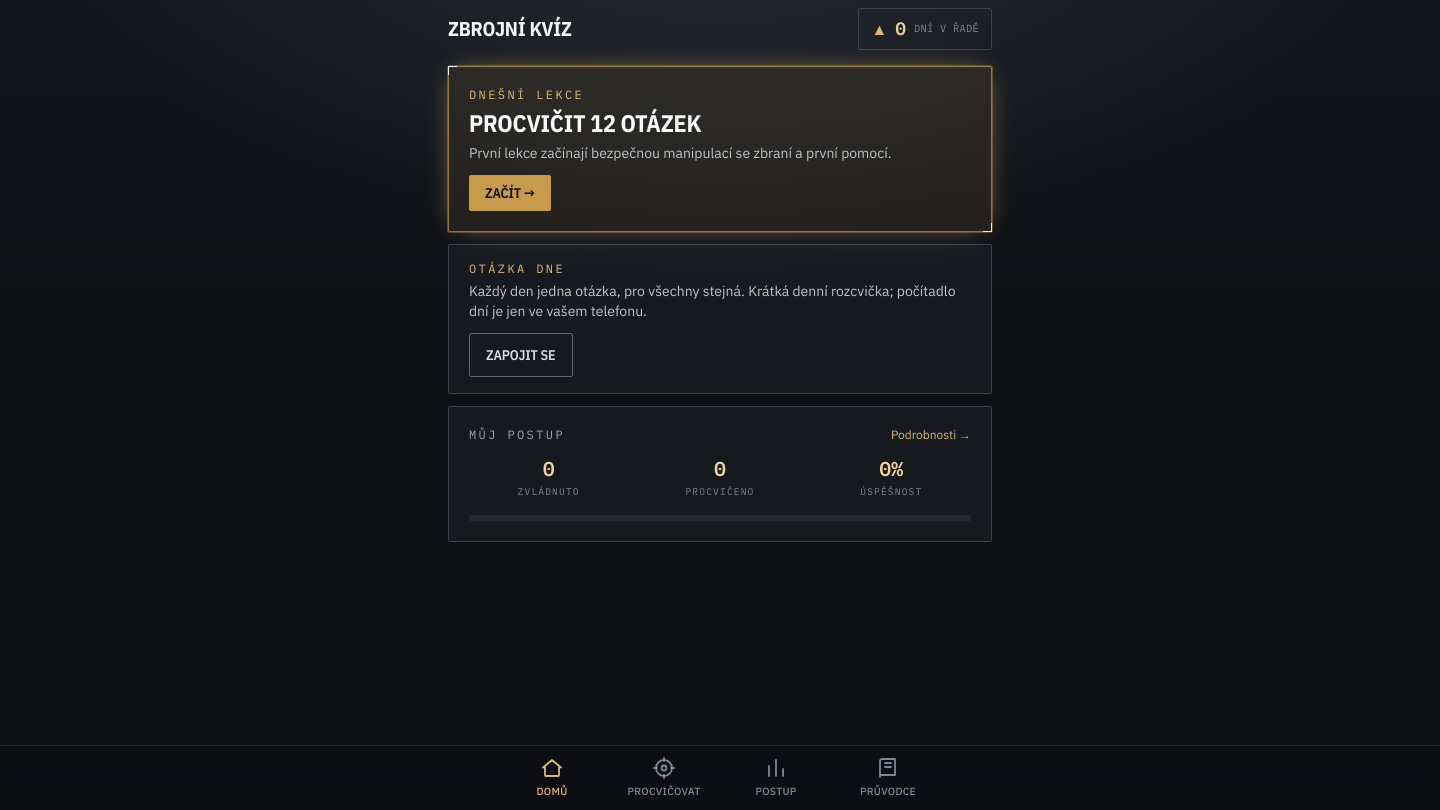
Test: reading aid in the app › is never offered in the mock exam, even when turned on
What coordinates should you click on to do the following:
click the button "Procvičovat"
I would click on:
 (664, 778)
Its box is top-left (608, 746), bottom-right (720, 809).
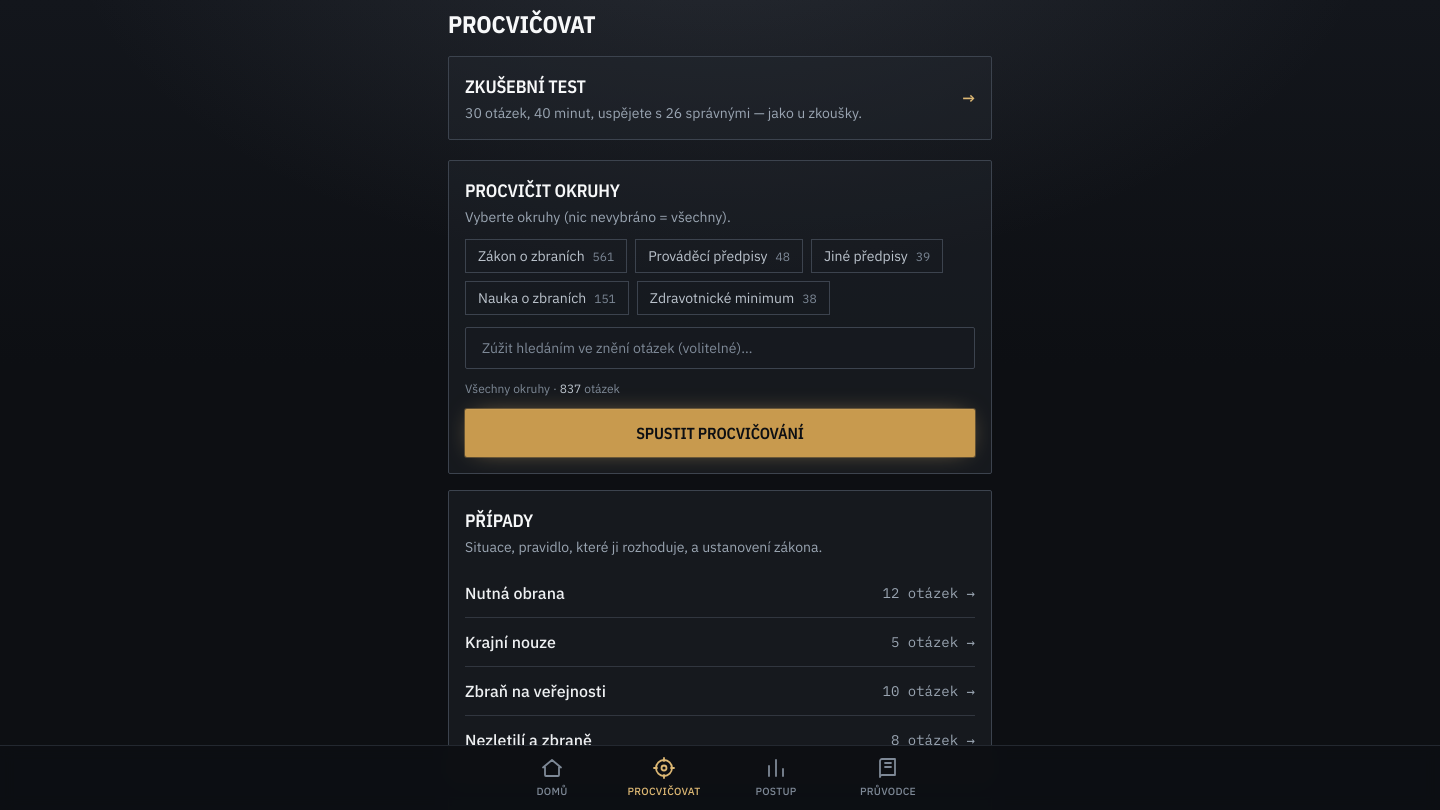
What coordinates should you click on to do the following:
click the button "Zkušební test"
I would click on:
 (525, 86)
Its box is top-left (448, 56), bottom-right (992, 140).
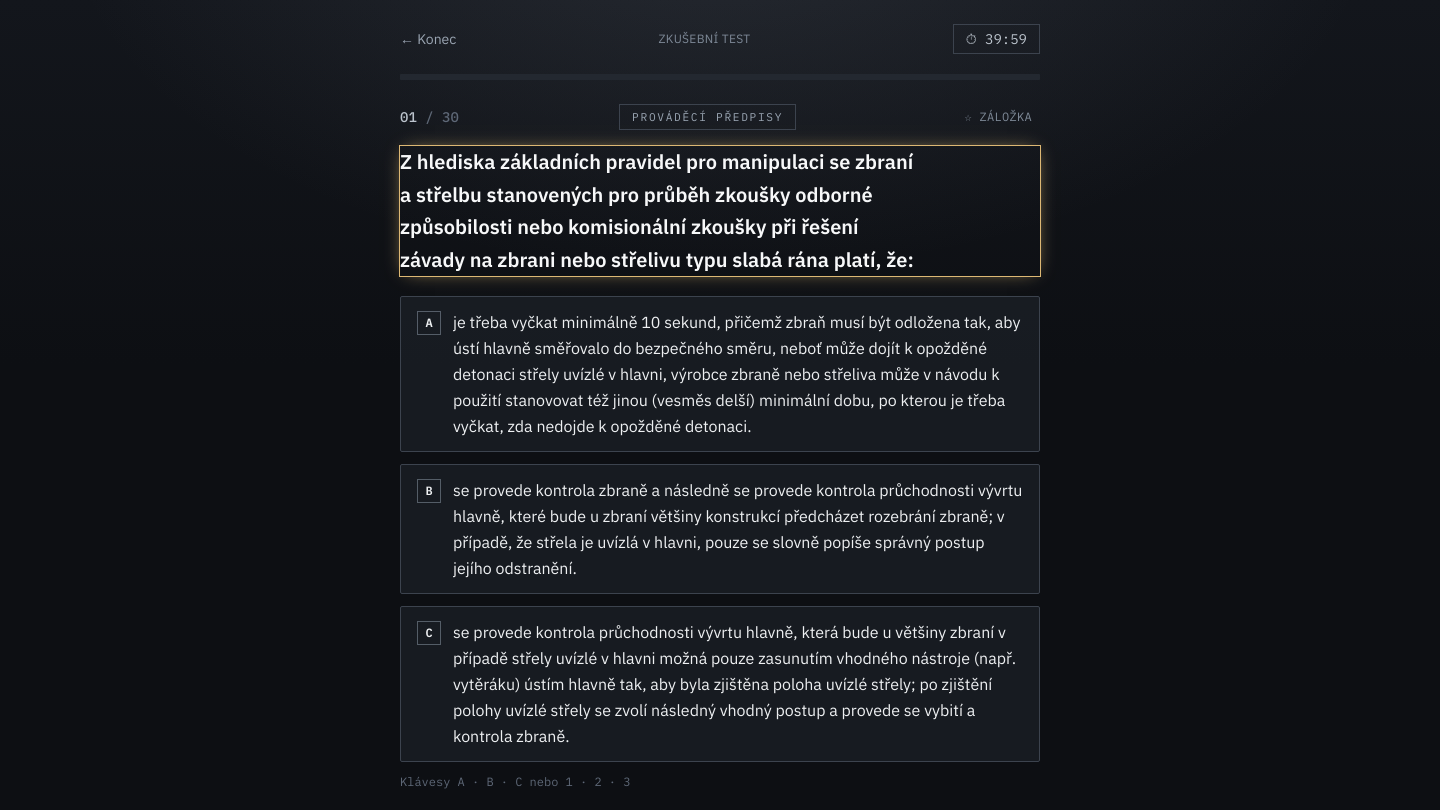
Expected: the element that starts with "Prováděcí předpisy" is shown, top-left (400, 104), bottom-right (1040, 790)
